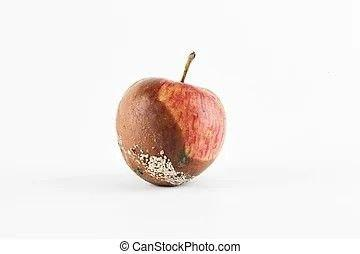Apple: (118, 75, 229, 186)
